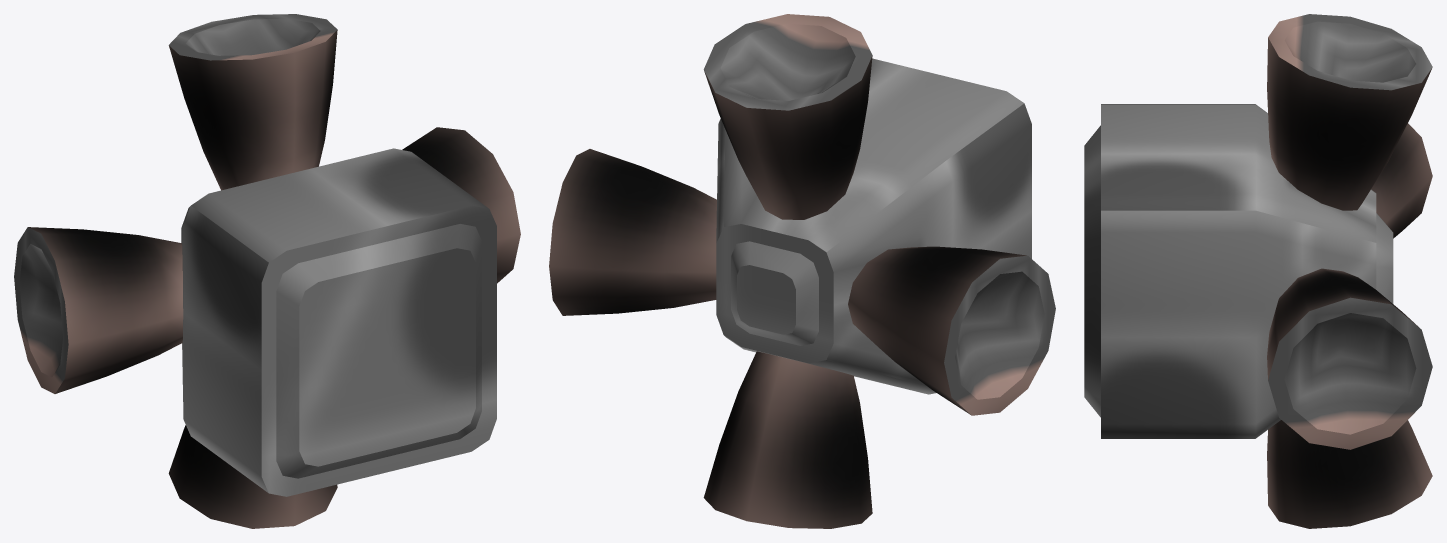
Rendered from Tantares_RCS_1.obj.
3 views of the same model, side by side, from view 1: azimuth 30°, elevation 25°; view 2: azimuth 150°, elevation 25°; view 3: azimuth 270°, elevation 25° (orthographic).
Parts seen in each view (by area): view 1: Tantares_RCS_1; view 2: Tantares_RCS_1; view 3: Tantares_RCS_1.
Part boxes in pixels (x1=…): Tantares_RCS_1: x1=14, y1=14, x2=520, y2=528; Tantares_RCS_1: x1=549, y1=14, x2=1055, y2=528; Tantares_RCS_1: x1=1084, y1=14, x2=1432, y2=528.
Size of the model in its own units: 0.1923 by 0.1923 by 0.1297.
